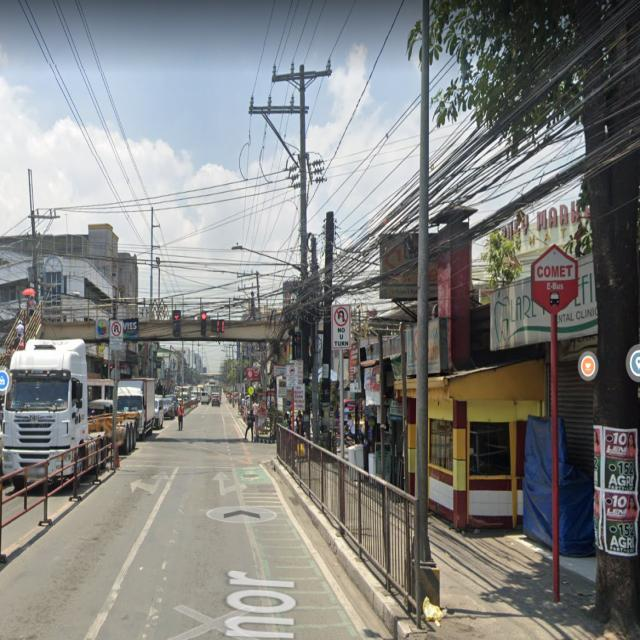no u turn: (329, 304, 353, 352), (108, 318, 124, 354)
